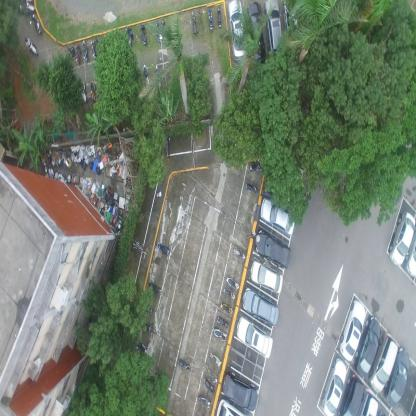car: (369, 332, 399, 394), (354, 314, 382, 378), (235, 316, 274, 361), (339, 299, 366, 363), (320, 358, 347, 416), (386, 346, 410, 410), (389, 210, 416, 266), (255, 228, 291, 270), (222, 371, 258, 412), (242, 288, 279, 327), (260, 197, 296, 236), (249, 260, 284, 296), (247, 1, 266, 65), (227, 0, 247, 60), (336, 374, 365, 415), (265, 0, 284, 58), (215, 397, 248, 415), (358, 388, 379, 415), (405, 230, 415, 276)
